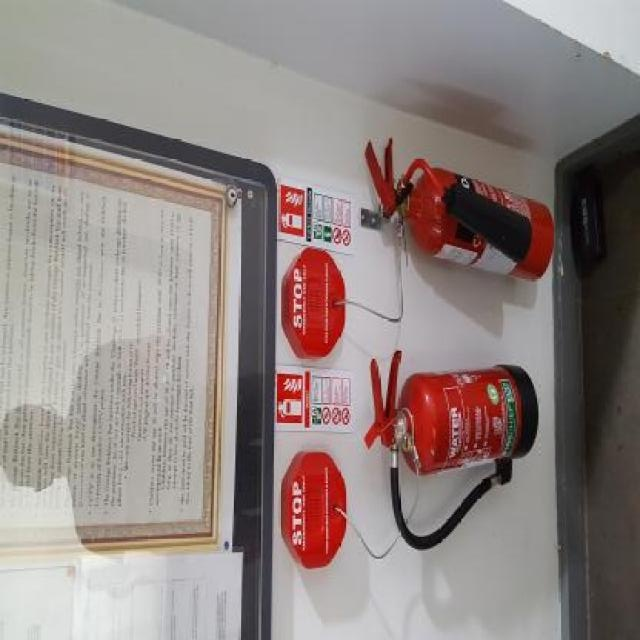fire extinguisher: (362, 357, 541, 555), (364, 144, 556, 282)
